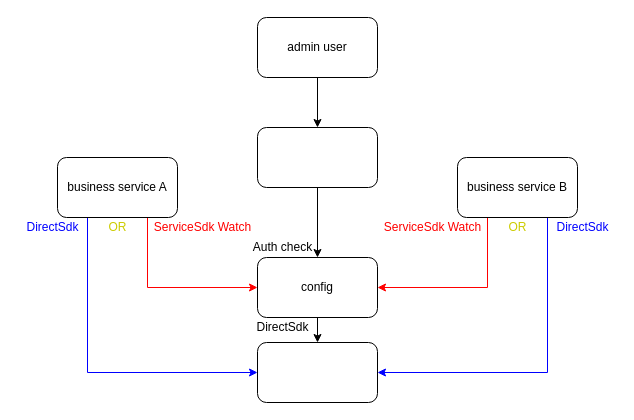
This 634x420 diagram has some shape labels left out. Each missing label, with the centre of its shape:
"Mongodb (must in replicaset mode)" belongs at [317,372].
"nginx" belongs at [317,157].
